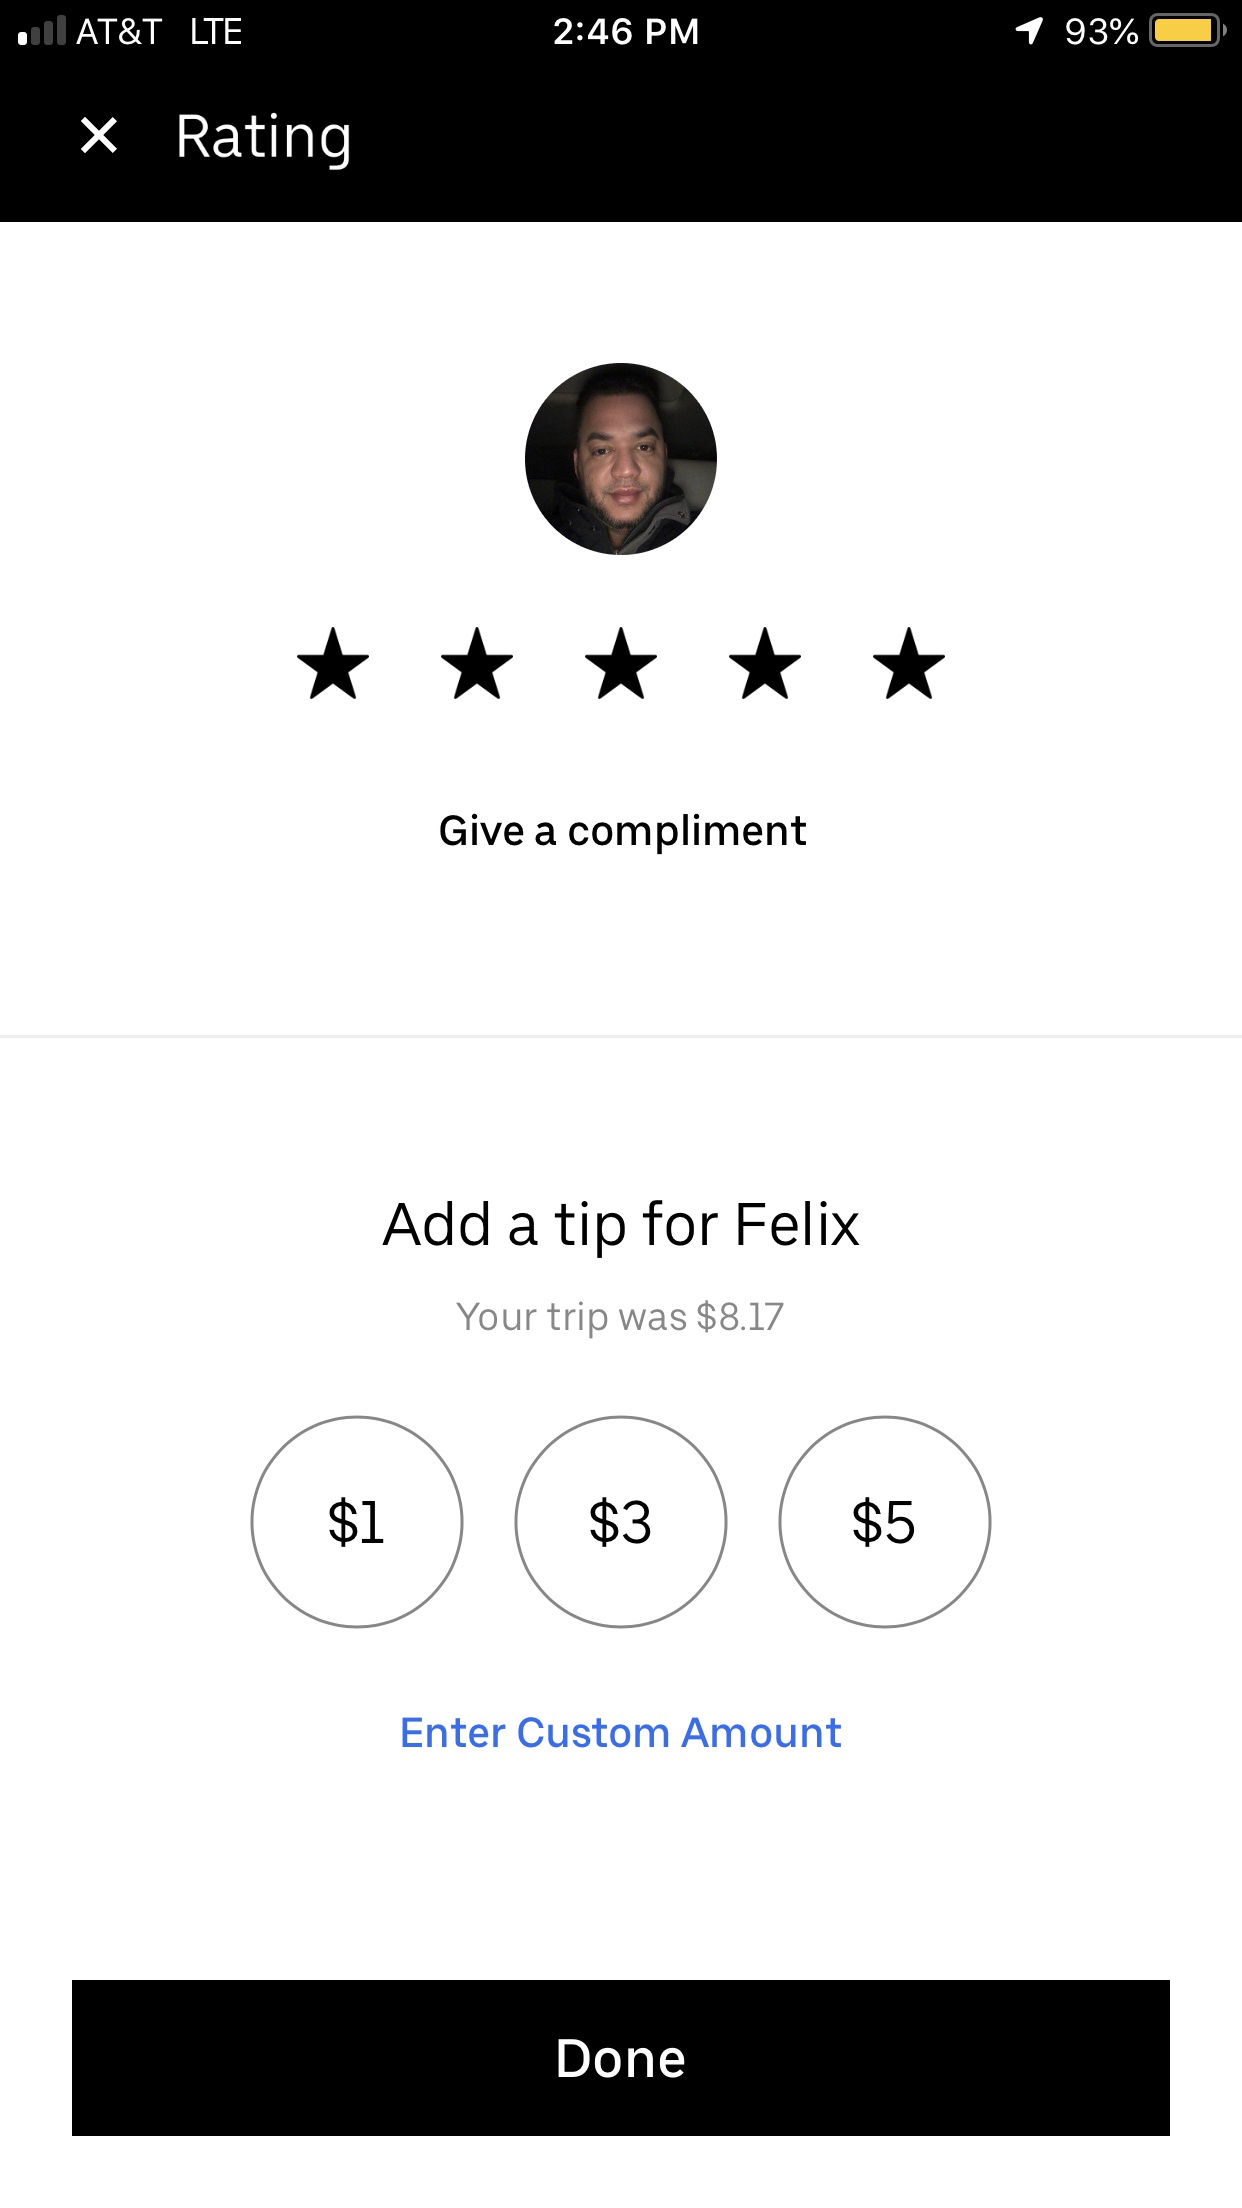Icon: (728, 626, 804, 701), (441, 626, 516, 701), (873, 626, 946, 701), (584, 626, 657, 701), (296, 626, 370, 699), (80, 117, 118, 155)
Image: (514, 1415, 729, 1630), (778, 1415, 993, 1630), (252, 1415, 466, 1629), (525, 362, 717, 557)
Text: (382, 1200, 861, 1259), (440, 813, 808, 855), (400, 1717, 842, 1749), (456, 1300, 786, 1341), (179, 112, 350, 171)
TextButton: (73, 1981, 1171, 2137)
UpperTaskBar: (2, 2, 1242, 49)
